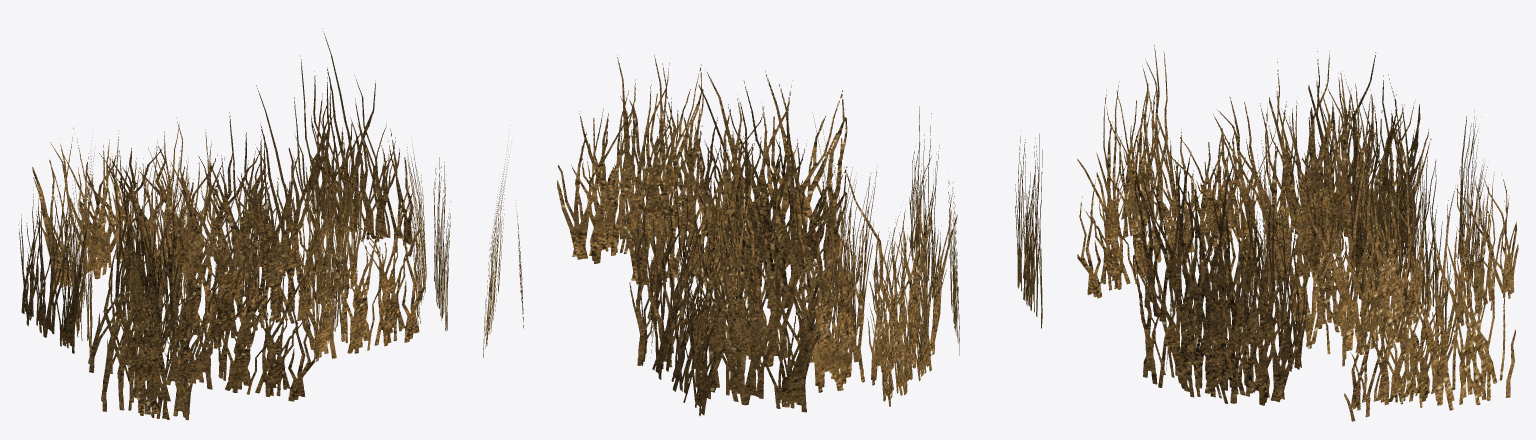
The model's file is grass_3d_03_golden_beige.glb.
3 views of the same model, side by side, from view 1: azimuth 30°, elevation 25°; view 2: azimuth 150°, elevation 25°; view 3: azimuth 270°, elevation 25° (orthographic). The views are drawn at different scales.
Parts seen in each view (by area): view 1: grass_cards; view 2: grass_cards; view 3: grass_cards.
Part boxes in pixels (left/top/right/bottom): grass_cards: left=18, top=28, right=450, bottom=420; grass_cards: left=483, top=55, right=1042, bottom=416; grass_cards: left=1077, top=45, right=1518, bottom=421.
Bounding box in the file's own units: 1.11 × 0.5631 × 0.9892.
Materials: 1 (1 with a texture image).
